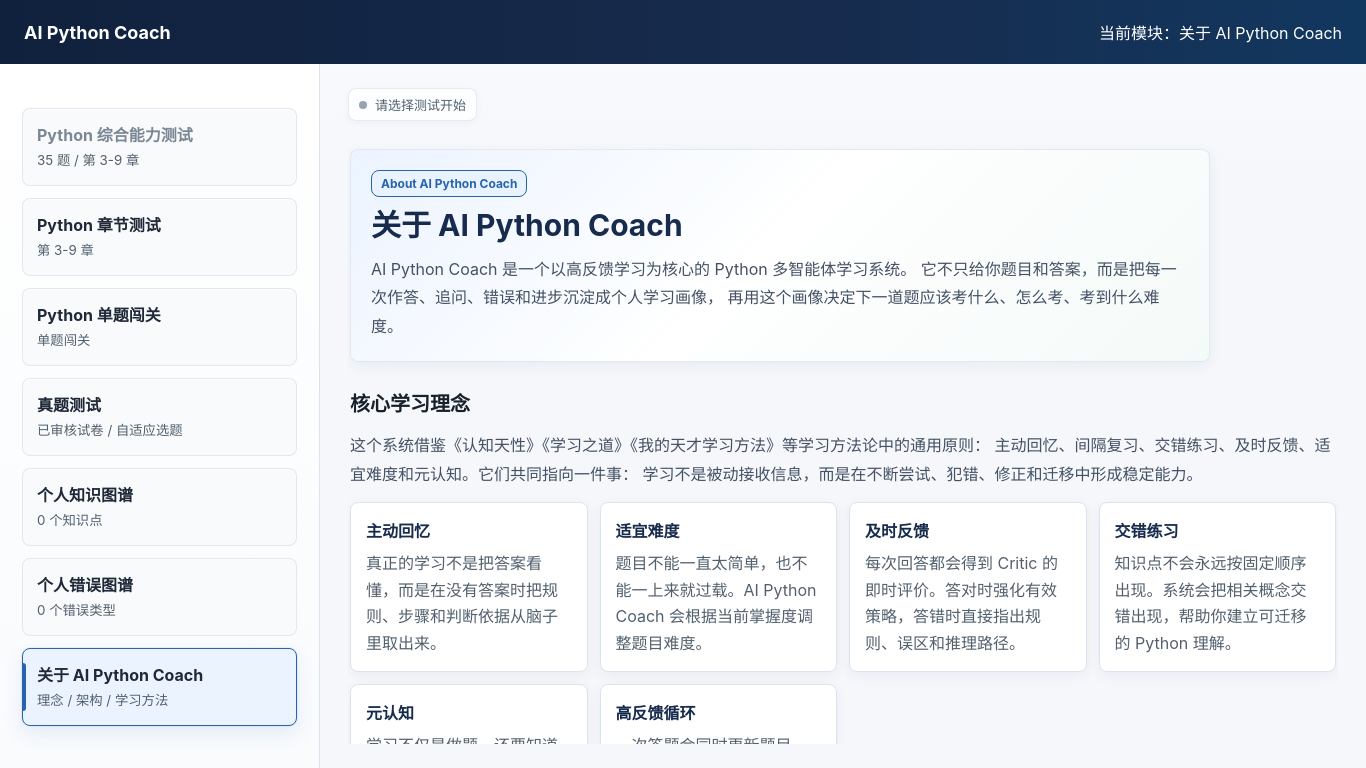
Scenario: LearningPage integration › shows the challenge completion animation when all chapter nodes are mastered
Click the button "Python 单题闯关 单题闯关". click: (160, 327)
box: [22,288,297,366]
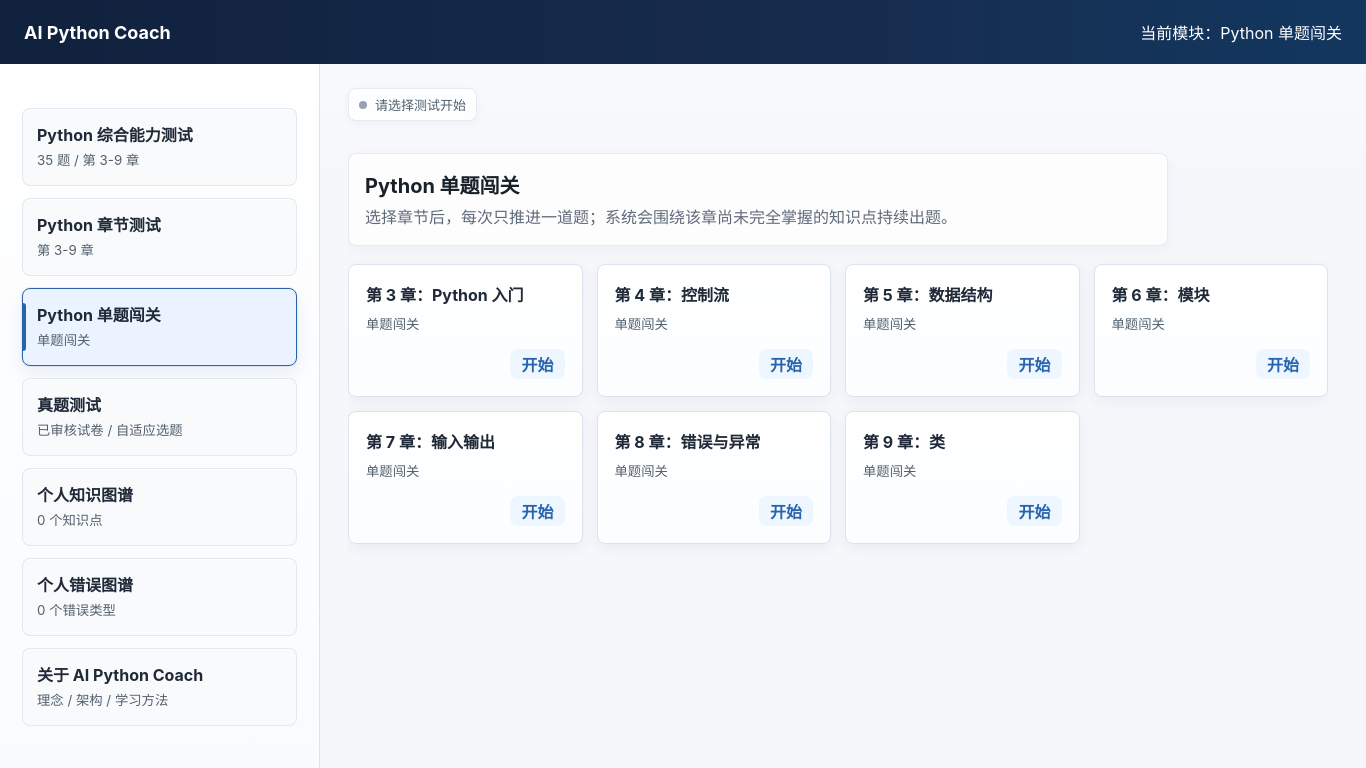
Click the button with aria-label "开始 第 5 章：数据结构单题闯关". click: (1034, 364)
box: [1008,349,1062,379]
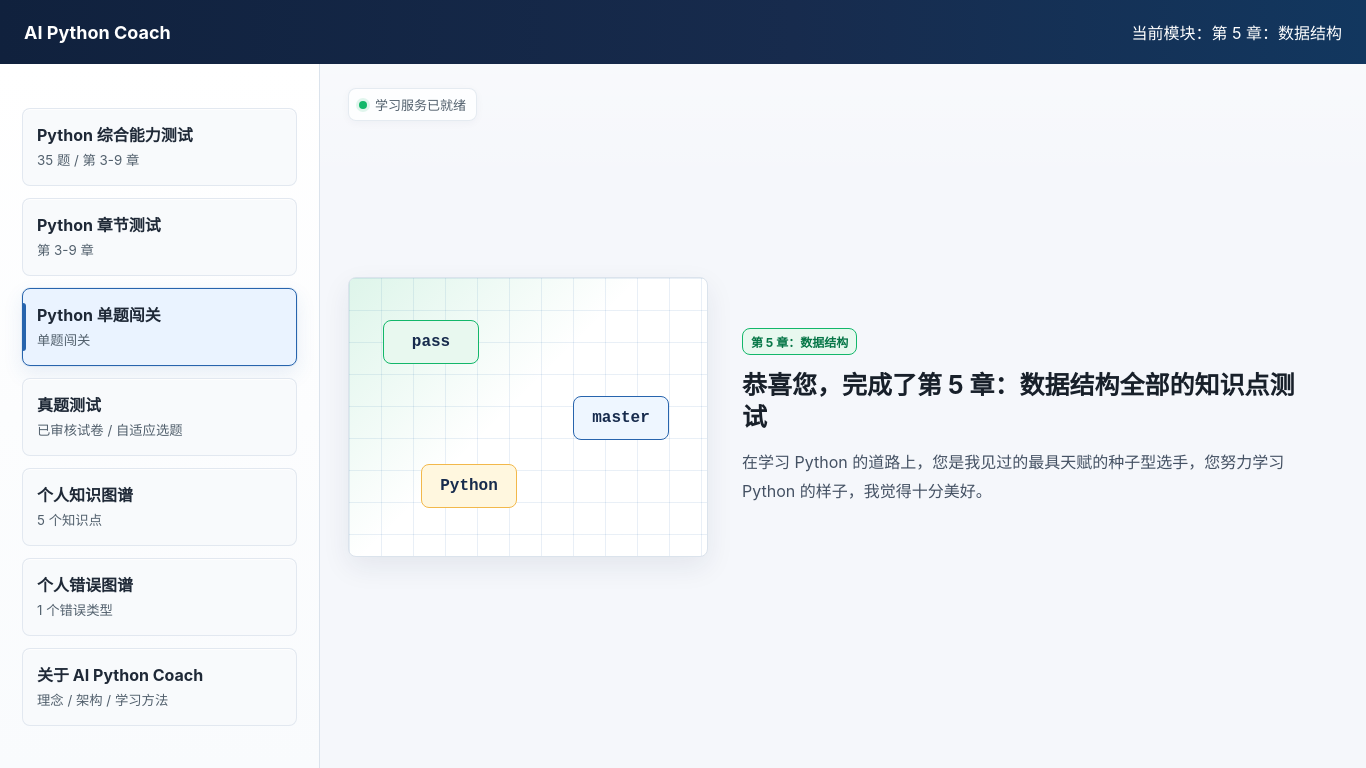
Expected: the text "恭喜您，完成了第 5 章：数据结构全部的知识点测试" is shown, [742,369,1302,434]
Expected: the text "在学习 Python 的道路上，您是我见过的最具天赋的种子型选手，您努力学习 Python 的样子，我觉得十分美好。" is shown, [742,448,1302,505]
